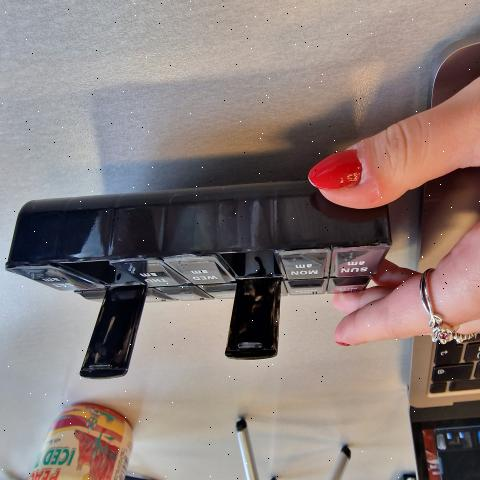Open: (54, 259, 147, 379), (221, 249, 279, 358)
